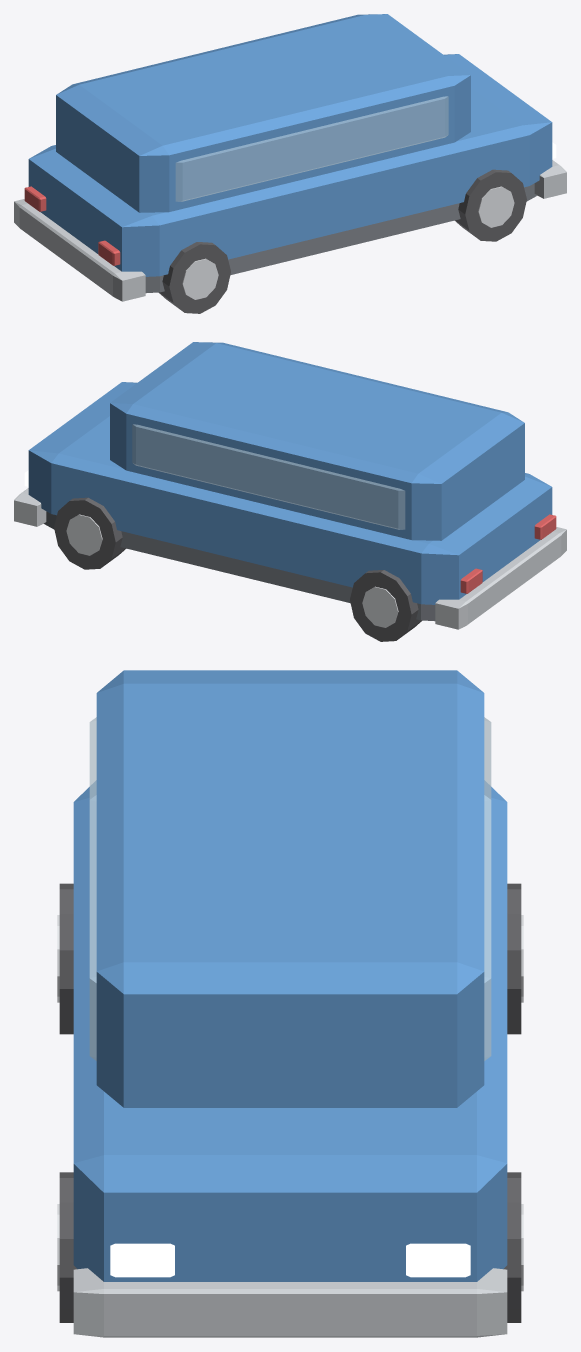
Rendered from b03_compact_station_wagon.glb.
3 views of the same model, one above another, from view 1: azimuth 30°, elevation 25°; view 2: azimuth 150°, elevation 25°; view 3: azimuth 270°, elevation 25° (orthographic). The views are drawn at different scales.
Parts seen in each view (by area): view 1: b03_compact_station_wagon; view 2: b03_compact_station_wagon; view 3: b03_compact_station_wagon.
Part boxes in pixels (<box>): b03_compact_station_wagon: <box>14,14,566,313</box>; b03_compact_station_wagon: <box>14,342,566,641</box>; b03_compact_station_wagon: <box>57,670,523,1337</box>.
Bounding box in the file's own units: 4.86 × 1.68 × 2.19.
